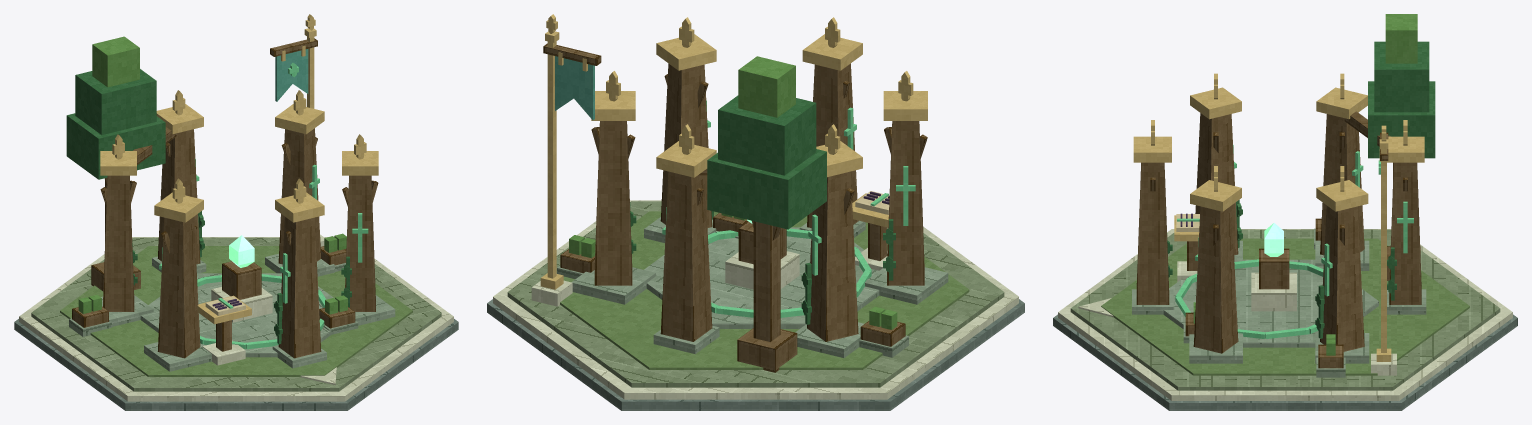
Rendered from elf_druidic_circle_hex_v1.glb.
The picture shows the model from 3 angles, left to right: view 1: azimuth 30°, elevation 25°; view 2: azimuth 150°, elevation 25°; view 3: azimuth 270°, elevation 25°; orthographic projection. The views are drawn at different scales.
Parts seen in each view (by area): view 1: Elf_Druidic_Circle_Hex_V1_Hall, Elf_Druidic_Circle_Hex_V1_Foundation, Elf_Druidic_Circle_Hex_V1_Focus, Elf_Druidic_Circle_Hex_V1_Courtyard, Elf_Druidic_Circle_Hex_V1_Details, Elf_Druidic_Circle_Hex_V1_Roofs, Elf_Druidic_Circle_Hex_V1_Training, Elf_Druidic_Circle_Hex_V1_Faction; view 2: Elf_Druidic_Circle_Hex_V1_Hall, Elf_Druidic_Circle_Hex_V1_Foundation, Elf_Druidic_Circle_Hex_V1_Focus, Elf_Druidic_Circle_Hex_V1_Courtyard, Elf_Druidic_Circle_Hex_V1_Roofs, Elf_Druidic_Circle_Hex_V1_Details, Elf_Druidic_Circle_Hex_V1_Faction, Elf_Druidic_Circle_Hex_V1_Training; view 3: Elf_Druidic_Circle_Hex_V1_Hall, Elf_Druidic_Circle_Hex_V1_Foundation, Elf_Druidic_Circle_Hex_V1_Courtyard, Elf_Druidic_Circle_Hex_V1_Focus, Elf_Druidic_Circle_Hex_V1_Roofs, Elf_Druidic_Circle_Hex_V1_Details, Elf_Druidic_Circle_Hex_V1_Training, Elf_Druidic_Circle_Hex_V1_Faction.
Part boxes in pixels (box(x1,y1,x2,y2)): Elf_Druidic_Circle_Hex_V1_Hall: box(100, 128, 395, 371); Elf_Druidic_Circle_Hex_V1_Foundation: box(14, 237, 458, 410); Elf_Druidic_Circle_Hex_V1_Focus: box(66, 36, 368, 322); Elf_Druidic_Circle_Hex_V1_Courtyard: box(60, 246, 412, 385); Elf_Druidic_Circle_Hex_V1_Details: box(69, 14, 366, 344); Elf_Druidic_Circle_Hex_V1_Roofs: box(100, 104, 378, 222); Elf_Druidic_Circle_Hex_V1_Training: box(197, 274, 326, 365); Elf_Druidic_Circle_Hex_V1_Faction: box(270, 28, 324, 246); Elf_Druidic_Circle_Hex_V1_Hall: box(571, 63, 948, 357); Elf_Druidic_Circle_Hex_V1_Foundation: box(487, 200, 1024, 410); Elf_Druidic_Circle_Hex_V1_Focus: box(662, 56, 915, 372); Elf_Druidic_Circle_Hex_V1_Courtyard: box(560, 211, 969, 369); Elf_Druidic_Circle_Hex_V1_Roofs: box(591, 34, 927, 177); Elf_Druidic_Circle_Hex_V1_Details: box(546, 14, 913, 357); Elf_Druidic_Circle_Hex_V1_Faction: box(531, 31, 601, 306); Elf_Druidic_Circle_Hex_V1_Training: box(708, 191, 889, 317); Elf_Druidic_Circle_Hex_V1_Hall: box(1132, 113, 1426, 363); Elf_Druidic_Circle_Hex_V1_Foundation: box(1053, 229, 1517, 410); Elf_Druidic_Circle_Hex_V1_Courtyard: box(1078, 238, 1469, 375); Elf_Druidic_Circle_Hex_V1_Focus: box(1195, 14, 1435, 311); Elf_Druidic_Circle_Hex_V1_Roofs: box(1133, 87, 1424, 211); Elf_Druidic_Circle_Hex_V1_Details: box(1151, 73, 1407, 377); Elf_Druidic_Circle_Hex_V1_Training: box(1174, 213, 1323, 338); Elf_Druidic_Circle_Hex_V1_Faction: box(1371, 132, 1396, 375).
Size of the model in its own units: 1.59 by 1.18 by 1.84.
1 material, 1 textured.
